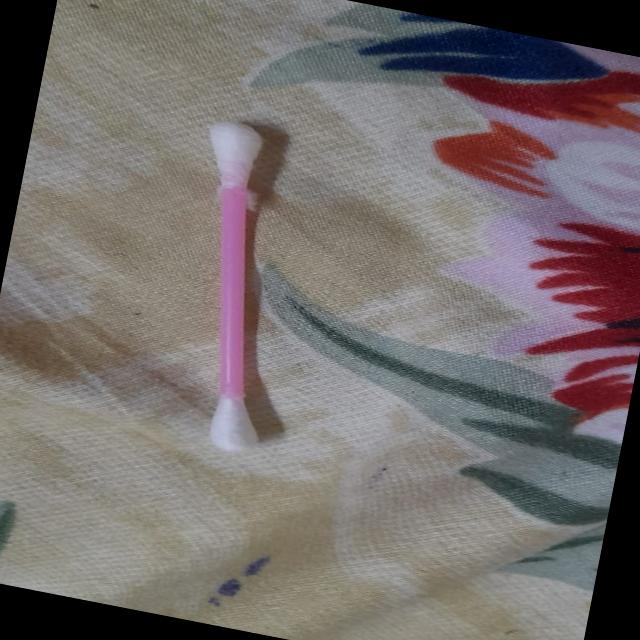Earbud - Non Recyclable: (142, 114, 320, 458)
